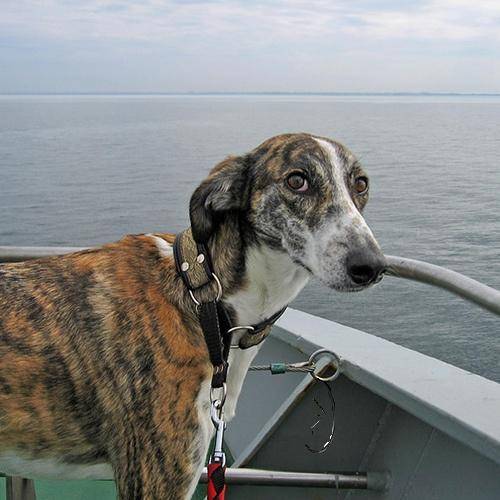tampered: (306, 379, 335, 453)
